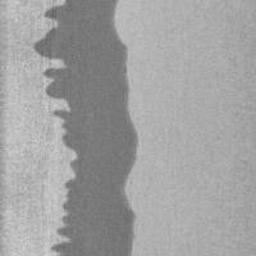Water spot: (32, 0, 140, 256)
